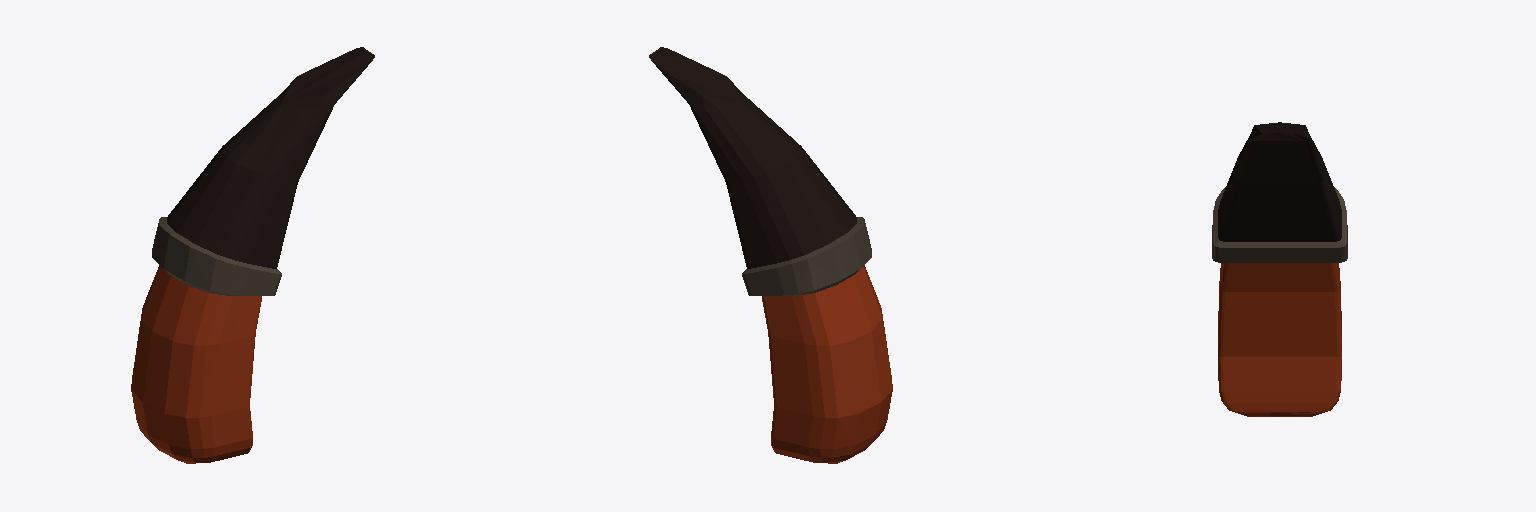
Rendered from character_merchantArmRight.obj.
3 renders of one model, left to right at view 1: azimuth 30°, elevation 25°; view 2: azimuth 150°, elevation 25°; view 3: azimuth 270°, elevation 25°, orthographic.
Visible parts, largest first — view 1: character_merchantArmRight_Cube.5982; view 2: character_merchantArmRight_Cube.5982; view 3: character_merchantArmRight_Cube.5982.
Boxes of the visible parts, x1=… form: character_merchantArmRight_Cube.5982: x1=131, y1=47, x2=374, y2=463; character_merchantArmRight_Cube.5982: x1=649, y1=47, x2=892, y2=463; character_merchantArmRight_Cube.5982: x1=1212, y1=122, x2=1347, y2=416.
Size of the model in its own units: 0.3802 by 0.5708 by 0.1971.